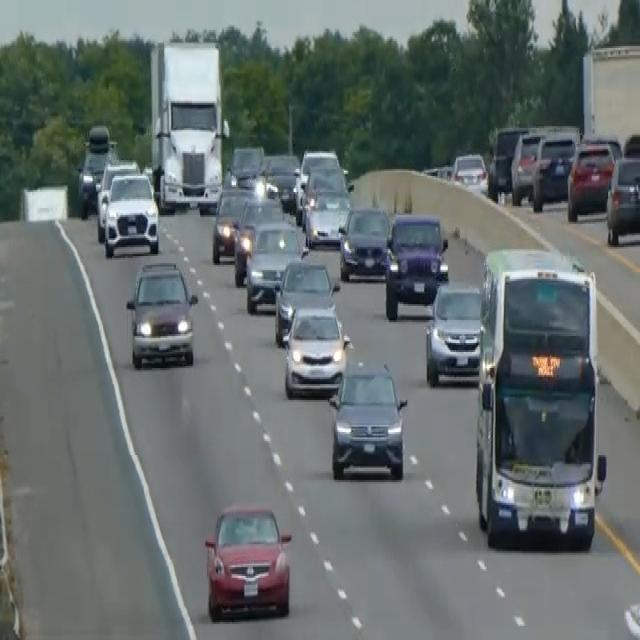bus: (473, 244, 607, 551)
car: (203, 502, 292, 620), (327, 359, 408, 480), (125, 258, 198, 368), (384, 210, 448, 320), (282, 301, 350, 398), (424, 279, 483, 386), (245, 219, 307, 313), (273, 256, 338, 345), (103, 171, 159, 256), (232, 194, 284, 284), (337, 203, 390, 281), (566, 138, 615, 220), (530, 130, 579, 210), (95, 158, 140, 240), (77, 123, 116, 217), (211, 185, 253, 263), (605, 153, 639, 245), (488, 125, 528, 199), (301, 164, 350, 224), (304, 187, 352, 247), (510, 130, 544, 204), (262, 151, 300, 208), (298, 146, 340, 196), (224, 142, 264, 188), (450, 151, 489, 197), (622, 132, 639, 160)
lorry: (148, 38, 228, 212)
